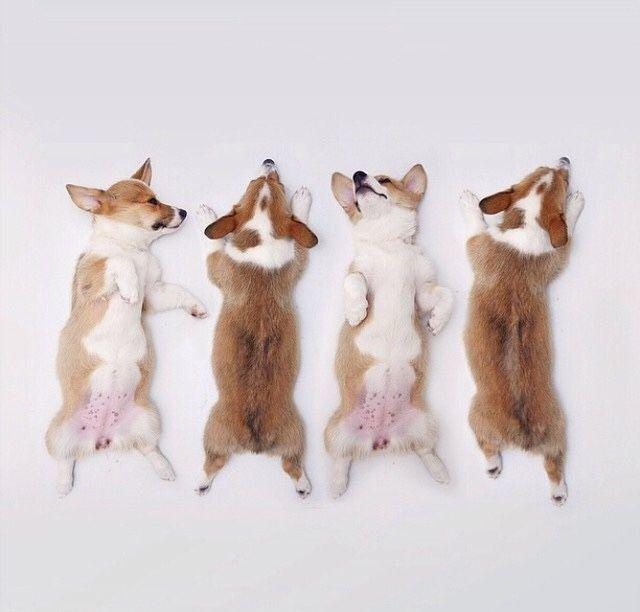adult_dog: (41, 158, 210, 498), (323, 162, 456, 498), (459, 154, 585, 505), (195, 158, 320, 500)
